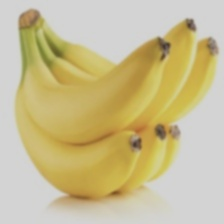banana: (0, 14, 198, 206)
